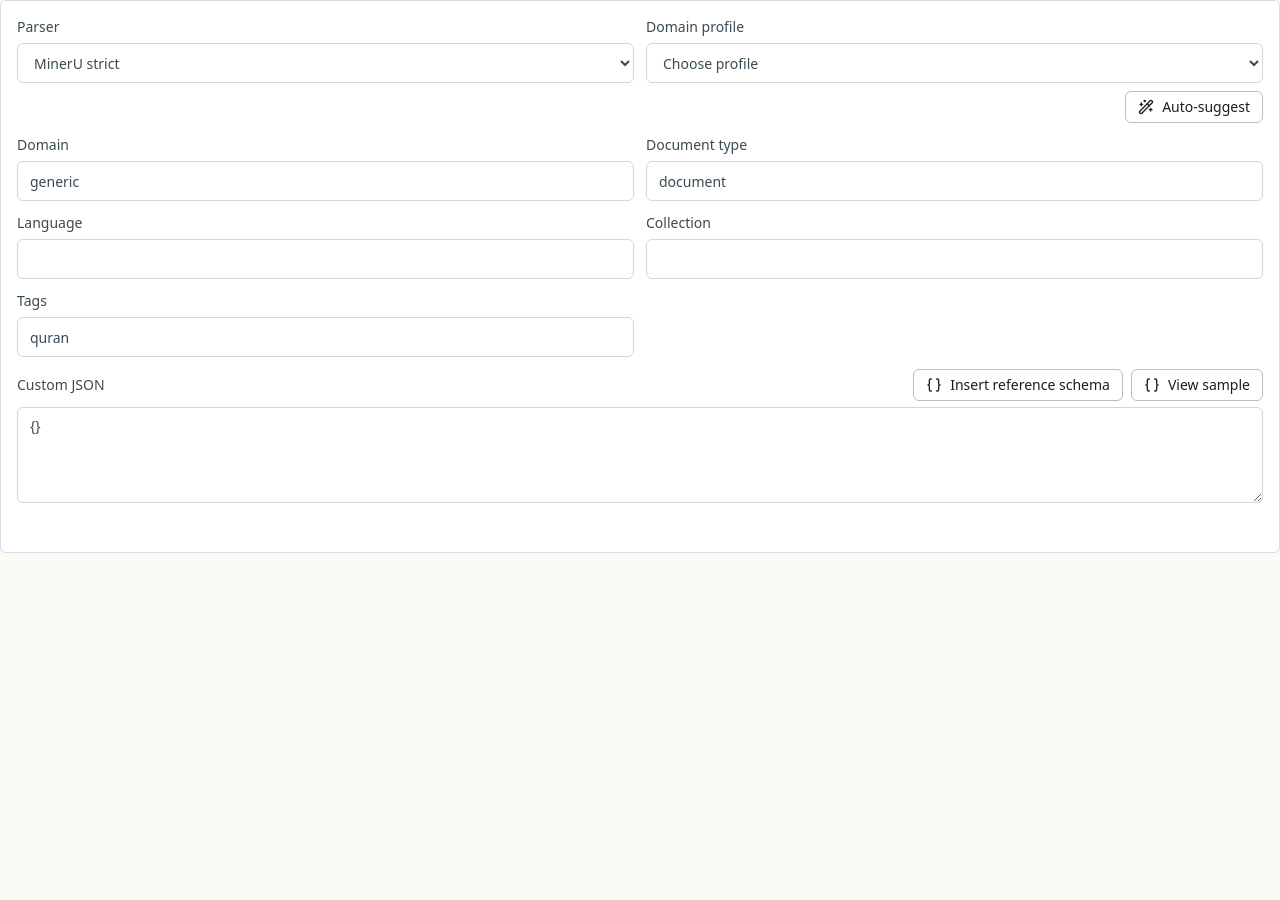
Test: DomainMetadataPanel › rejects autosuggested tags and metadata sources
The width and height of the screenshot is (1280, 900).
Click the button "Auto-suggest" at (1194, 107), box top-left (1125, 91), bottom-right (1263, 123)
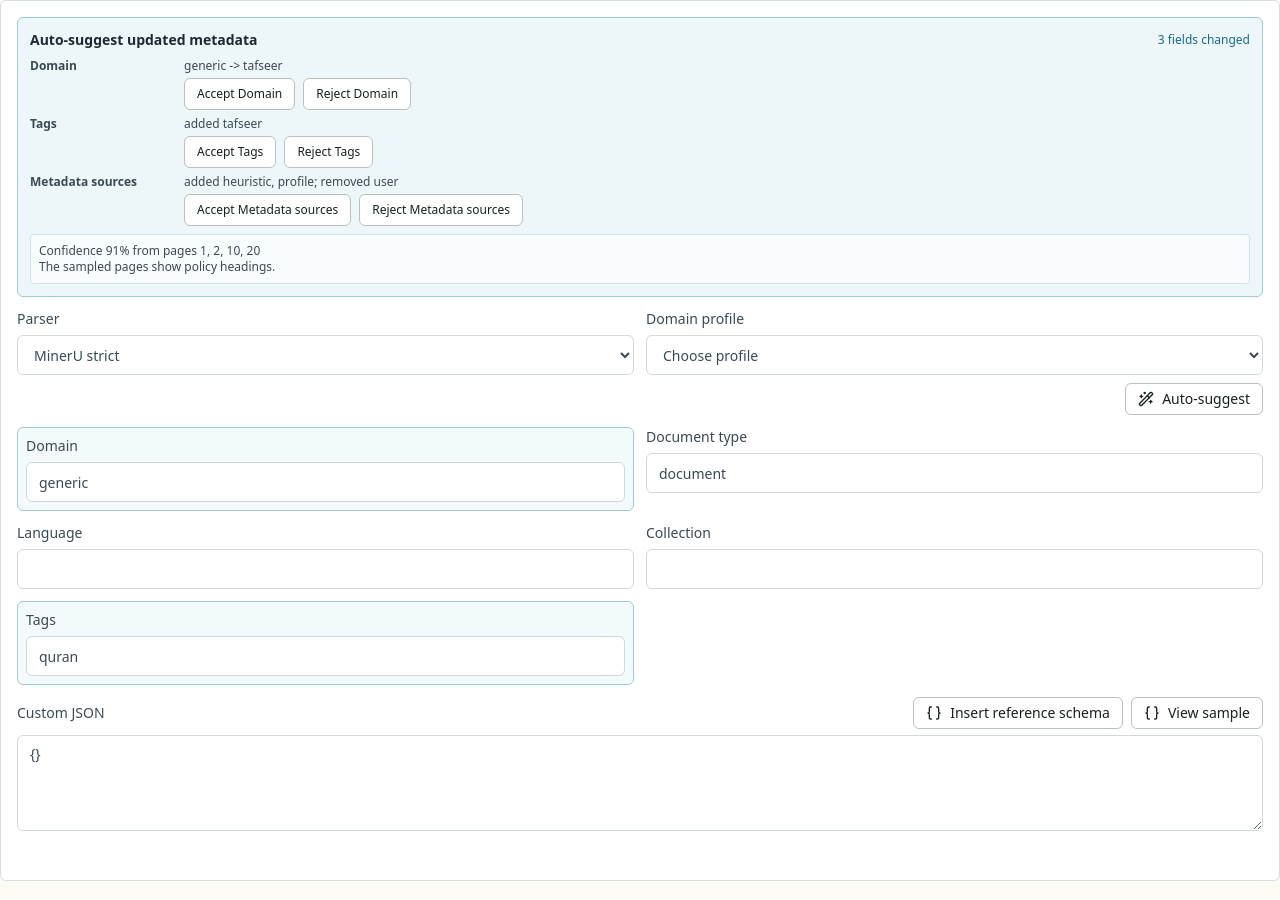
Check: the text "Auto-suggest updated metadata" is shown, box top-left (30, 30), bottom-right (258, 50)
Click the button "Reject Tags" at (329, 152), box top-left (284, 136), bottom-right (373, 168)
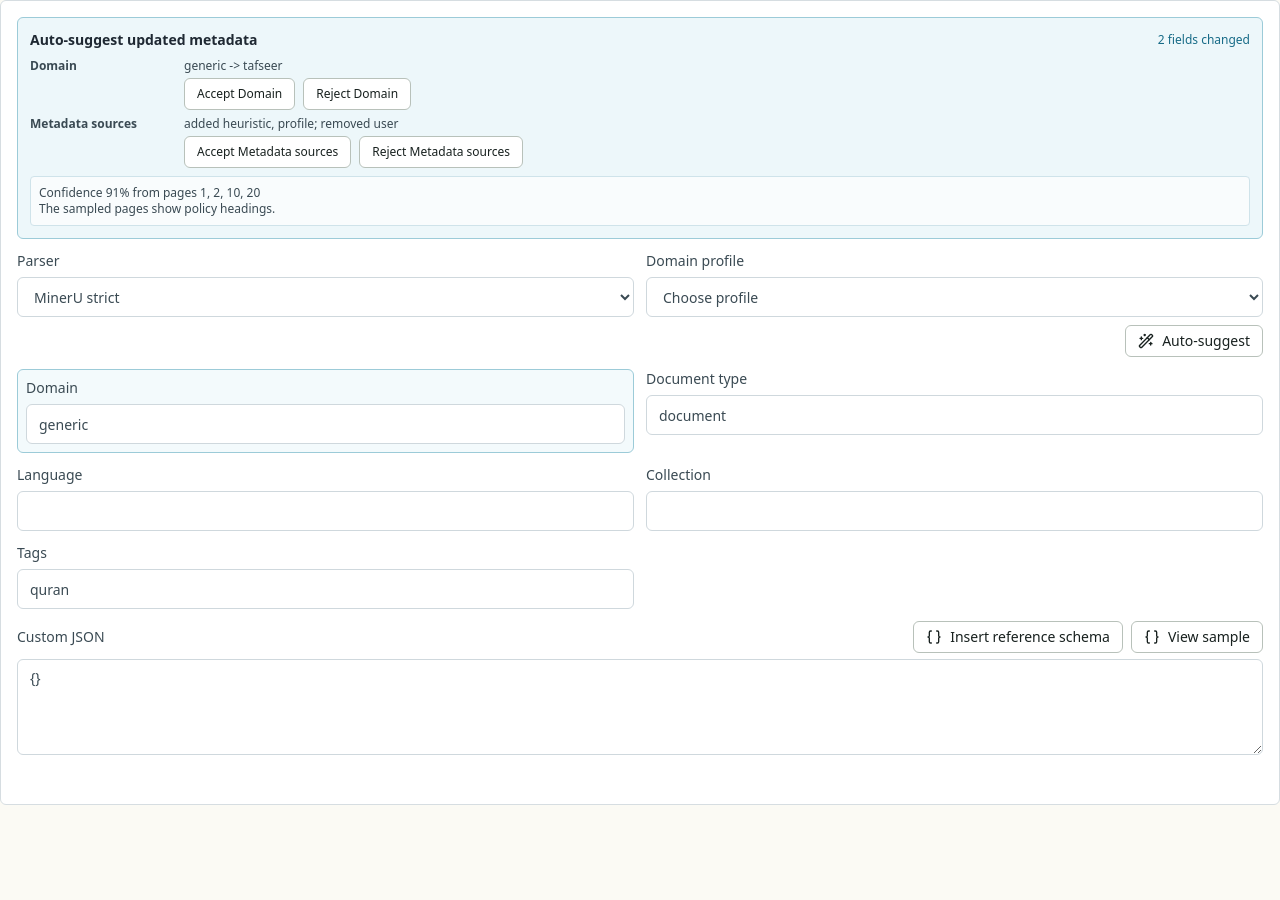
Check: the text "added tafseer" is gone
Click the button "Reject Metadata sources" at (441, 152), box top-left (359, 136), bottom-right (523, 168)
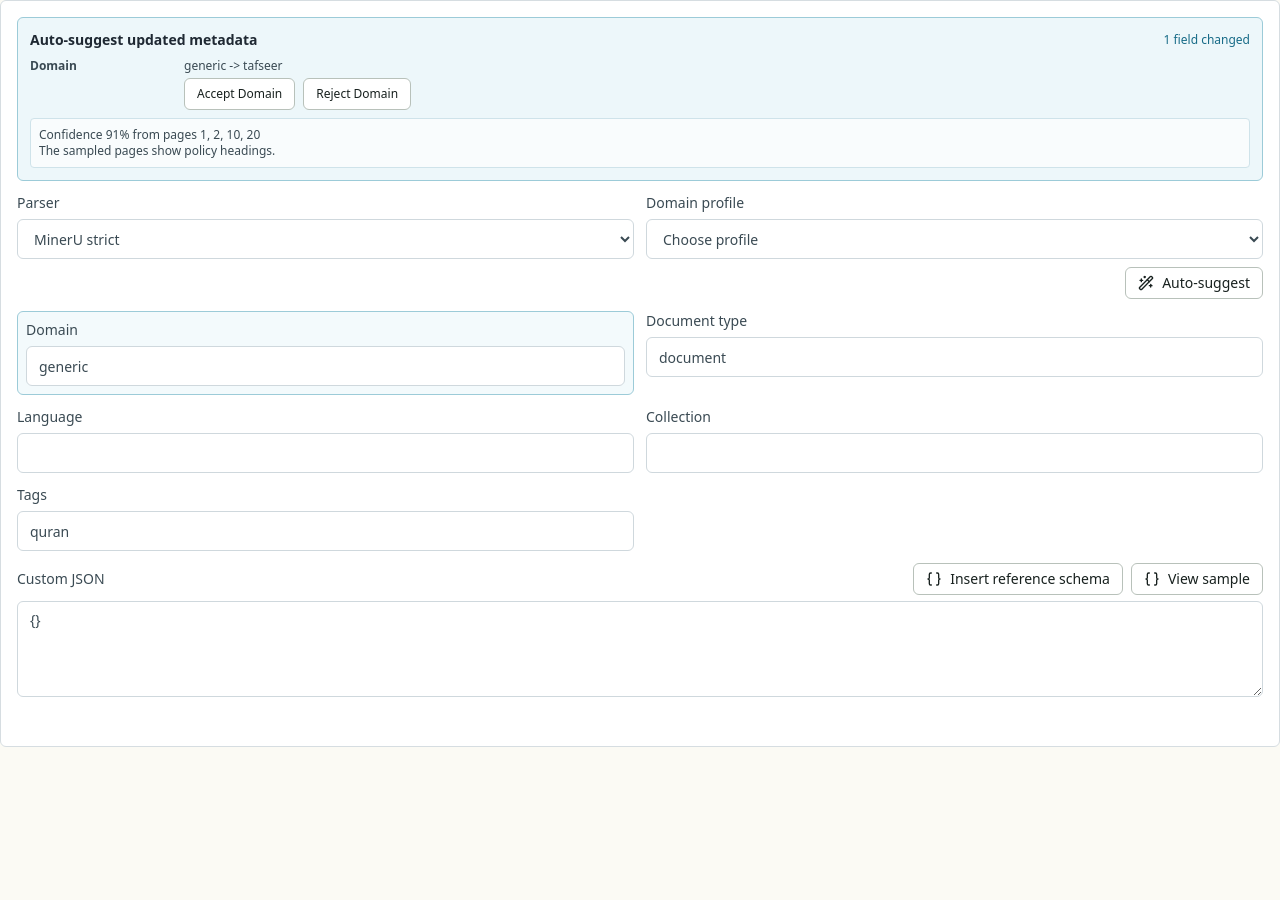
Check: the text "added heuristic, profile; removed user" is gone
